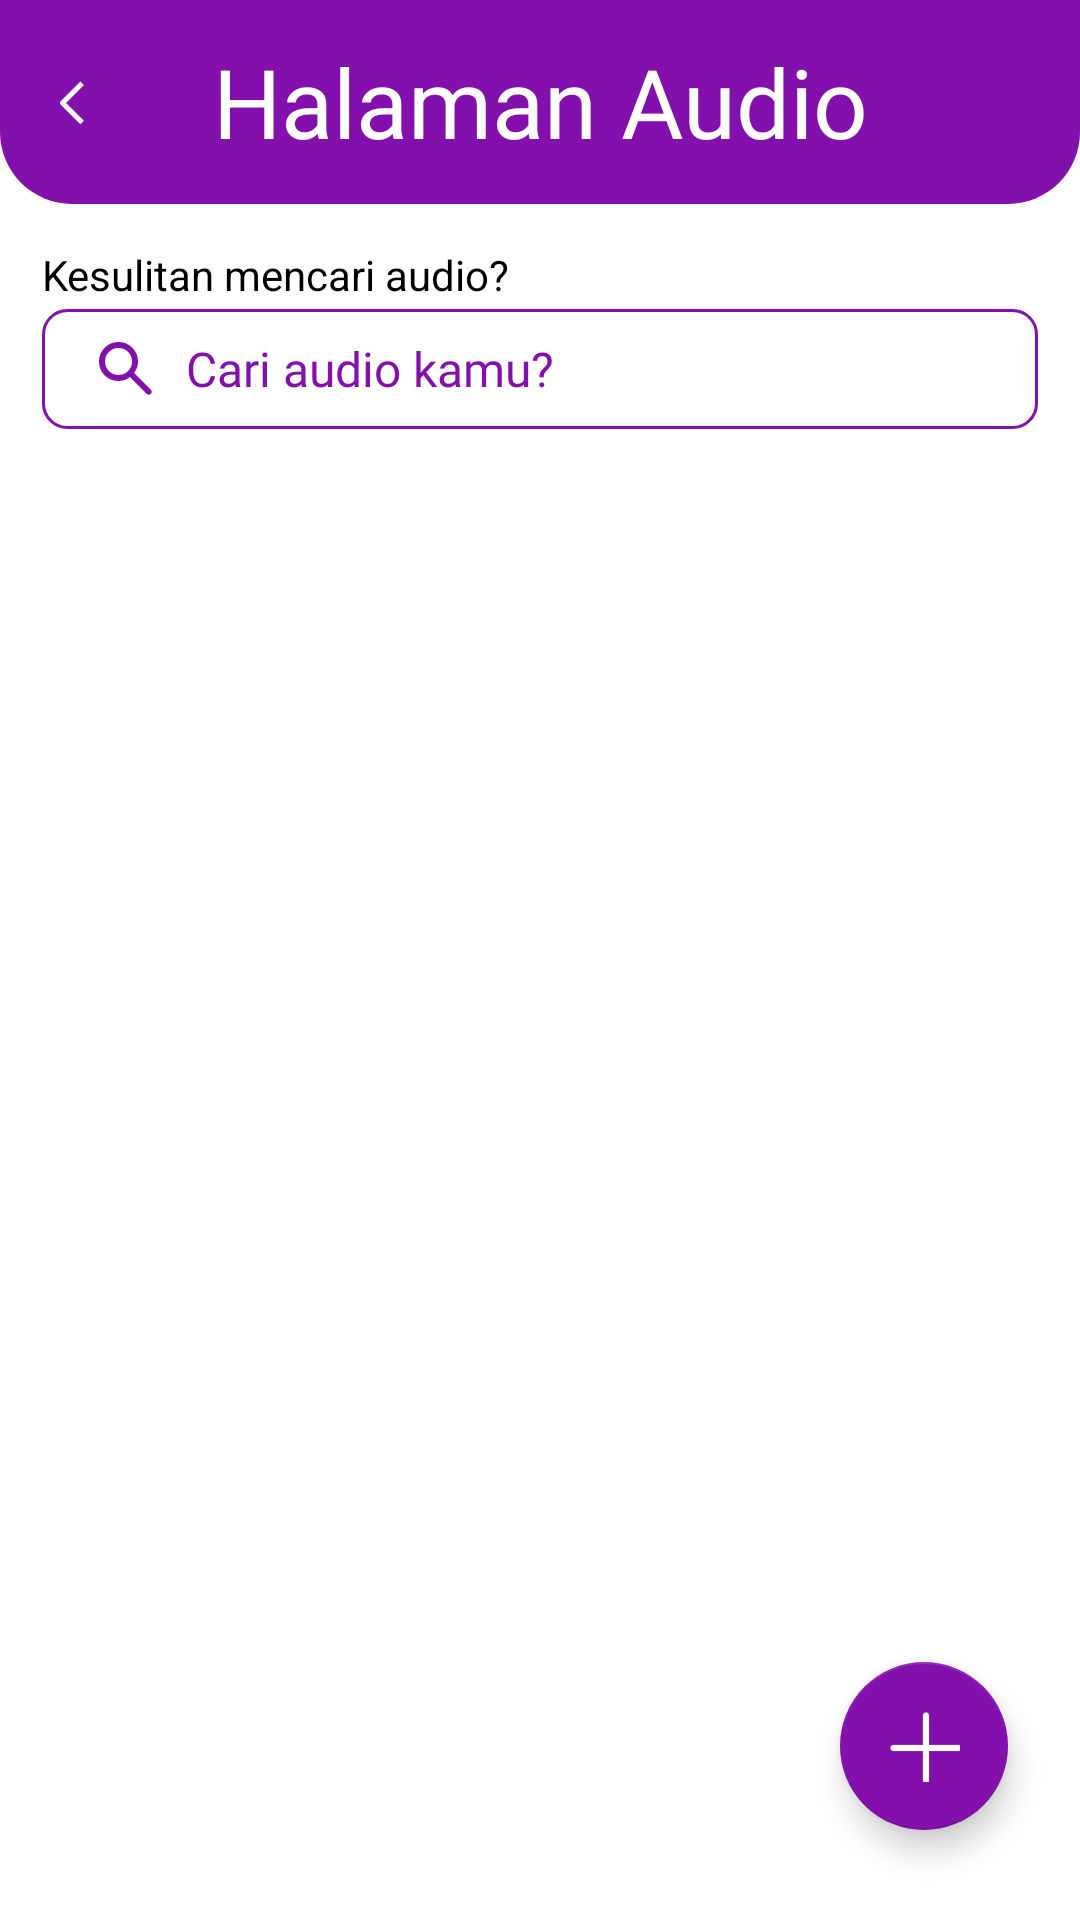

Screen size 1080w x 1920h. Icon name, then its center in pixels as [x,y]:
Kembali: [72,102]
